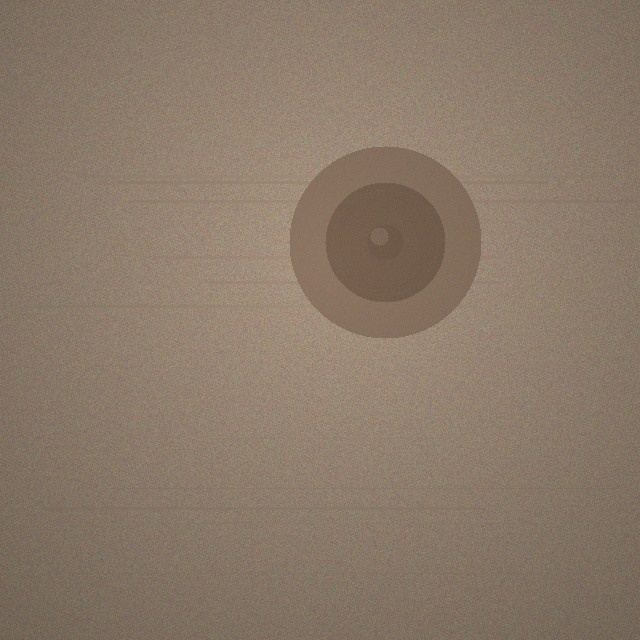good: (289, 146, 481, 338)
